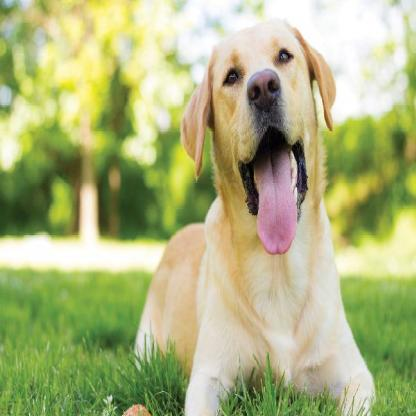Labarador Retriever: (135, 18, 374, 416)
